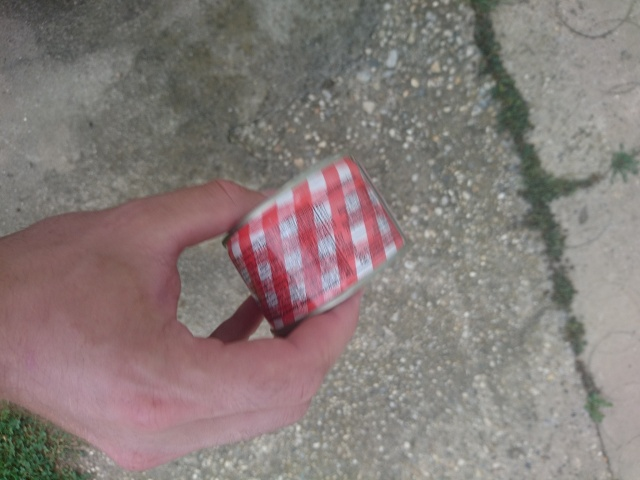Podravka Luncheon Meat 150g: (217, 146, 419, 341)
